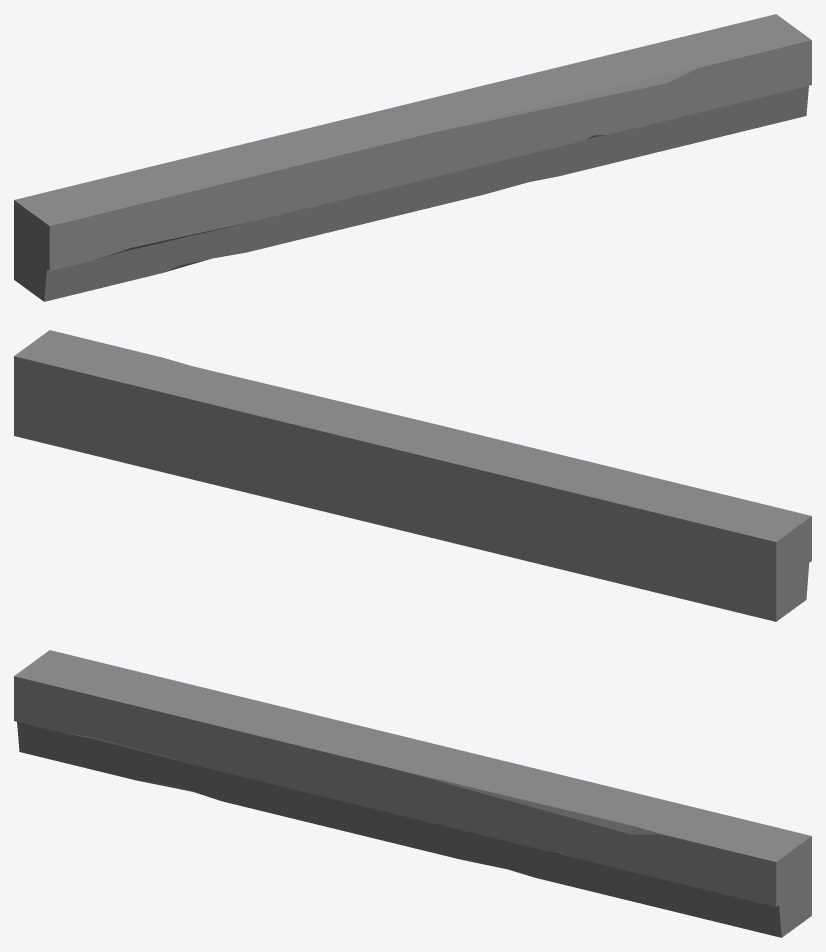
Rendered from SW_ENV_ConcreteLedge_4m.fbx.
3 views of the same model, one above another, from view 1: azimuth 30°, elevation 25°; view 2: azimuth 150°, elevation 25°; view 3: azimuth 330°, elevation 25° (orthographic).
Parts seen in each view (by area): view 1: SW_ENV_ConcreteLedge_4m; view 2: SW_ENV_ConcreteLedge_4m; view 3: SW_ENV_ConcreteLedge_4m.
Part boxes in pixels (box(x1,y1,x2,y2)): SW_ENV_ConcreteLedge_4m: box(14, 14, 811, 301); SW_ENV_ConcreteLedge_4m: box(14, 330, 811, 621); SW_ENV_ConcreteLedge_4m: box(14, 650, 811, 937).
Size of the model in its own units: 400 by 40 by 32.5.
